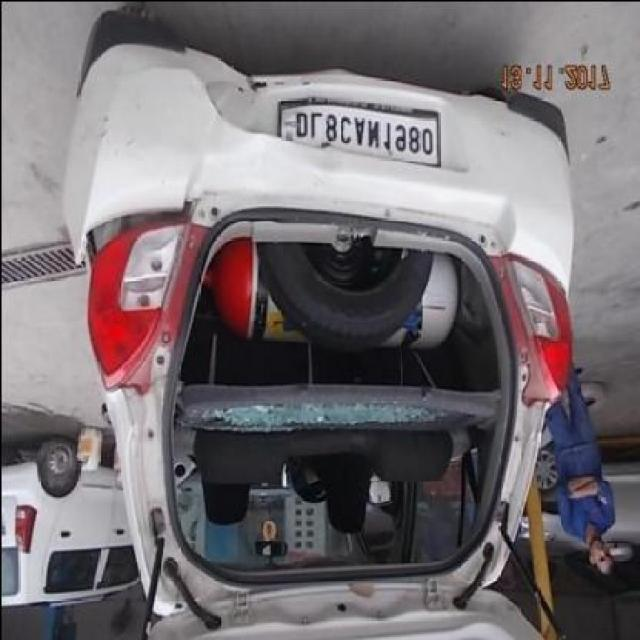damage: (179, 49, 283, 130), (74, 196, 195, 264), (309, 142, 344, 177)
